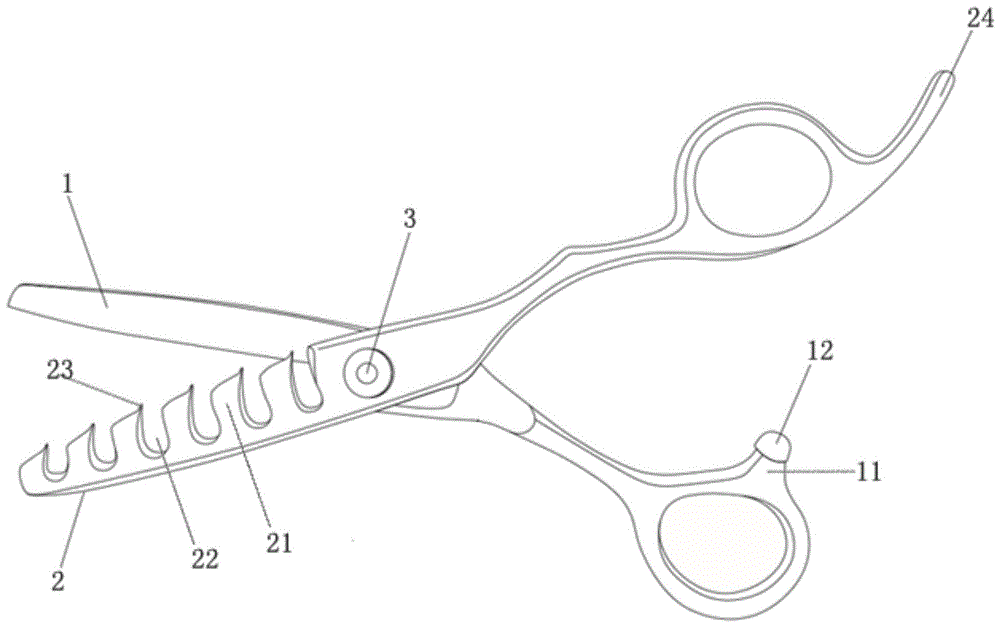scissors: (8, 67, 965, 618)
